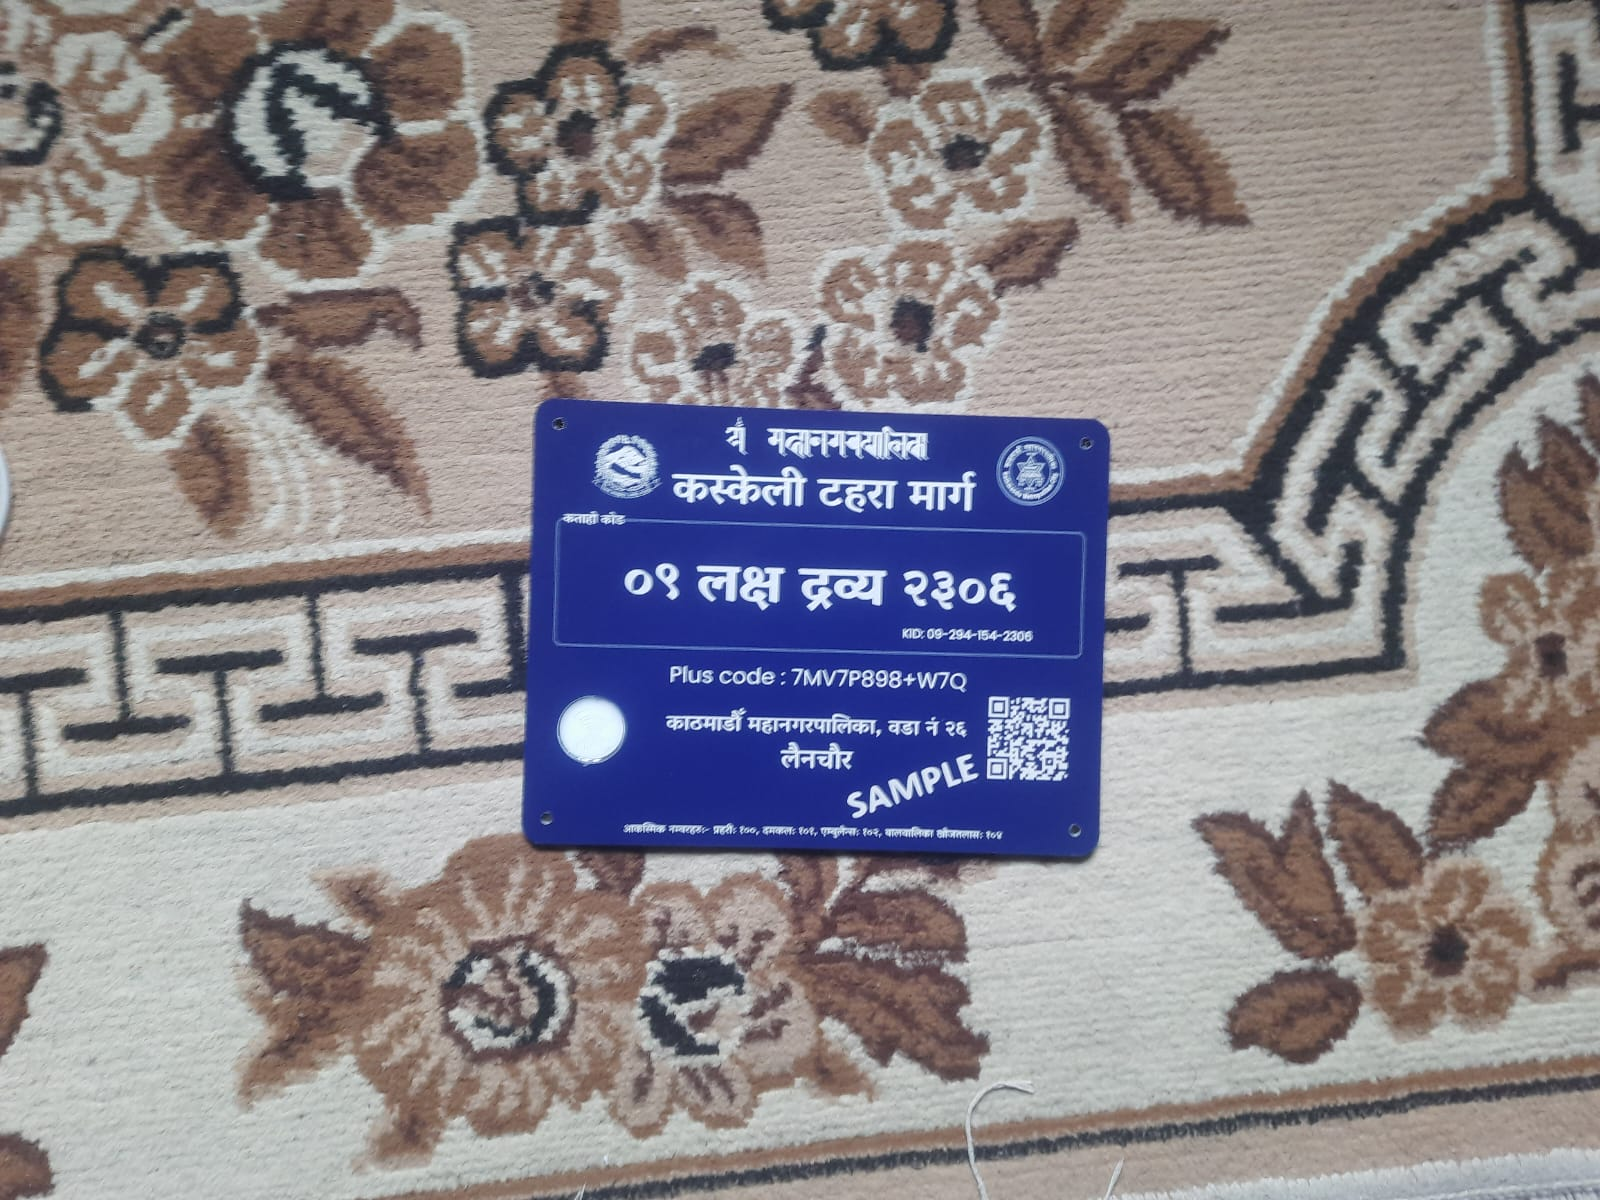Plate: (521, 393, 1116, 863)
